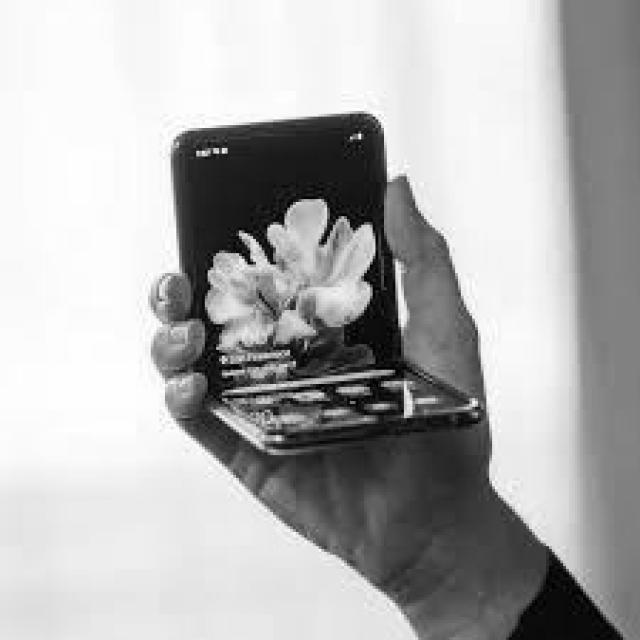No gun_phone: (175, 115, 484, 455)
